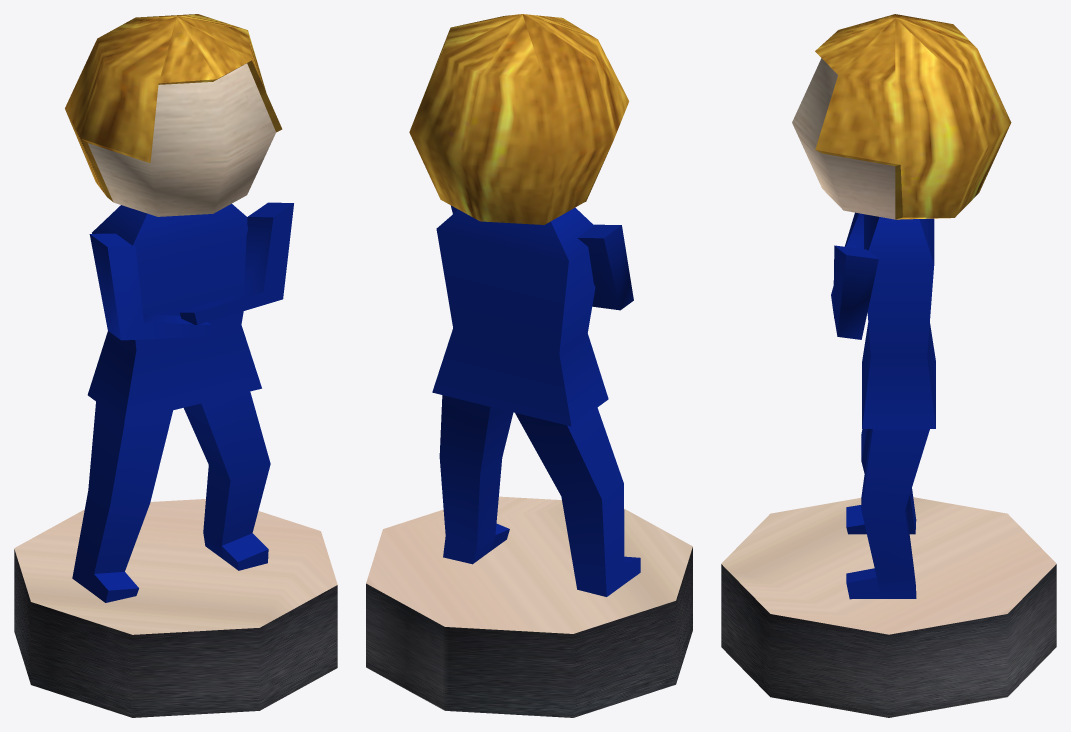
The model's file is voltboy.FBX.
The picture shows the model from 3 angles, left to right: view 1: azimuth 30°, elevation 25°; view 2: azimuth 150°, elevation 25°; view 3: azimuth 270°, elevation 25°; orthographic projection.
Visible parts, largest first — view 1: Cylinder001, Object001, Box003, Object002, Sphere001, Box001, Box002, Box004, Box005; view 2: Sphere001, Box003, Cylinder001, Object001, Box001, Box002, Box004; view 3: Cylinder001, Object001, Sphere001, Box003, Box002, Object002, Box005, Box001.
Part boxes in pixels (x1,y1,x2,y2): Cylinder001: (14, 549, 337, 717); Object001: (14, 499, 337, 634); Box003: (87, 203, 261, 421); Object002: (87, 63, 275, 216); Sphere001: (65, 14, 282, 201); Box001: (72, 401, 172, 602); Box002: (184, 391, 270, 570); Box004: (89, 233, 211, 340); Box005: (180, 202, 293, 324); Sphere001: (409, 14, 629, 224); Box003: (432, 207, 608, 426); Cylinder001: (366, 547, 692, 717); Object001: (366, 496, 692, 633); Box001: (515, 407, 640, 596); Box002: (439, 395, 513, 564); Box004: (577, 224, 633, 310); Cylinder001: (721, 564, 1056, 717); Object001: (721, 497, 1056, 634); Sphere001: (815, 14, 1011, 219); Box003: (862, 214, 935, 428); Box002: (846, 429, 929, 599); Object002: (792, 58, 895, 219); Box005: (831, 245, 878, 339); Box001: (846, 429, 916, 534).
Size of the model in its own units: 8.5 by 17.63 by 8.5.
4 materials, 4 textured.
